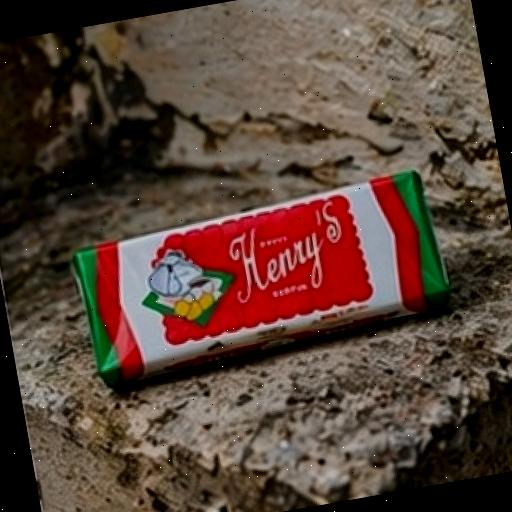golden: (18, 134, 498, 436)
